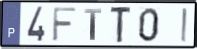0: (138, 6, 162, 43)
4: (25, 6, 46, 44)
F: (51, 6, 78, 43)
I: (180, 7, 188, 44)
T: (109, 5, 133, 45), (83, 8, 103, 42)
